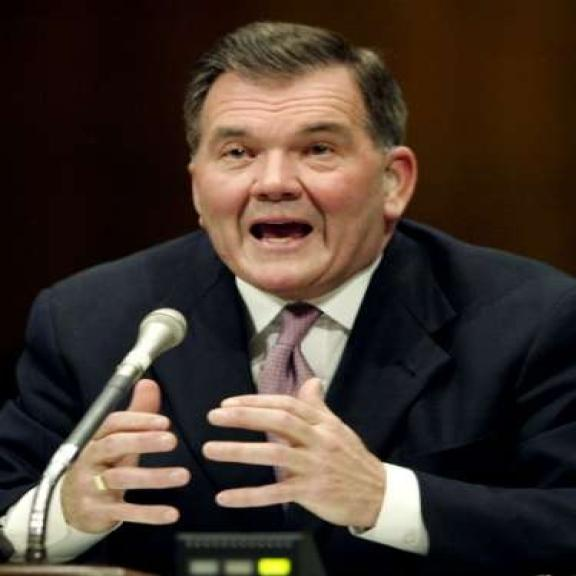face: (190, 73, 416, 294)
